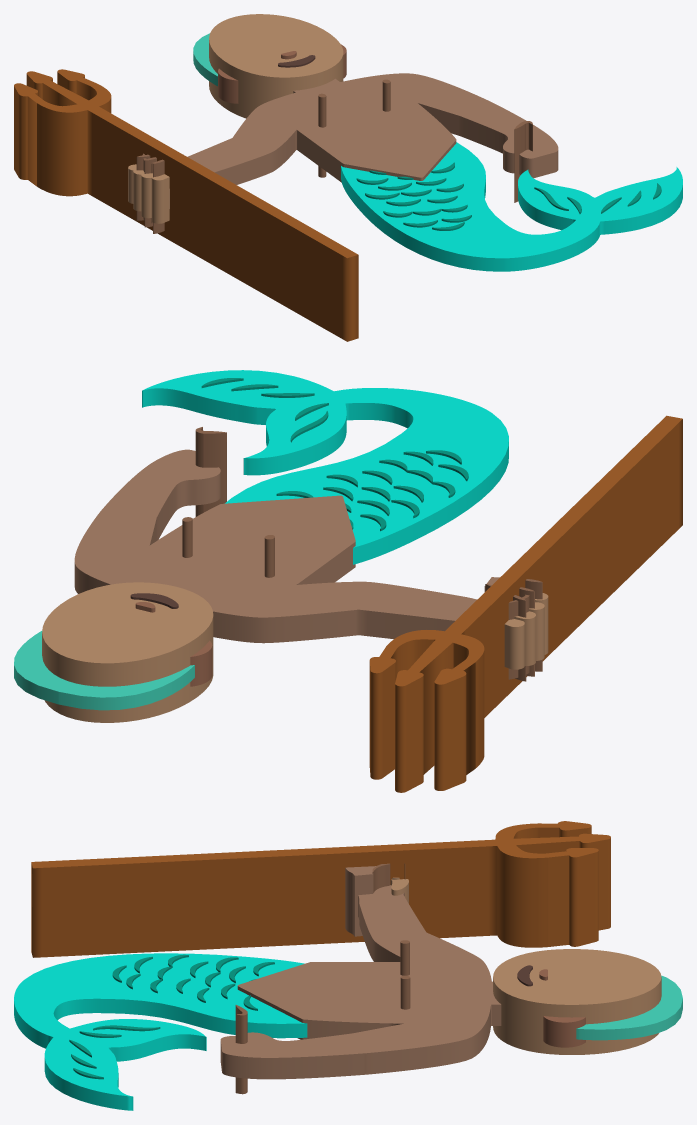
The model's file is emoji_u1f9dc_1f3fd_200d_2642.glb.
3 renders of one model, top to bottom at view 1: azimuth 30°, elevation 25°; view 2: azimuth 150°, elevation 25°; view 3: azimuth 270°, elevation 25°, orthographic. The views are drawn at different scales.
Visible parts, largest first — view 1: emoji_u1f9dc_1f3fd_200d_2642; view 2: emoji_u1f9dc_1f3fd_200d_2642; view 3: emoji_u1f9dc_1f3fd_200d_2642.
Part boxes in pixels (x1=…): emoji_u1f9dc_1f3fd_200d_2642: x1=14, y1=14, x2=682, y2=341; emoji_u1f9dc_1f3fd_200d_2642: x1=14, y1=370, x2=682, y2=792; emoji_u1f9dc_1f3fd_200d_2642: x1=14, y1=821, x2=682, y2=1110.
Size of the model in its own units: 0.0285 by 0.005 by 0.0339.
